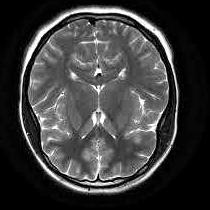Normal_Brain: (10, 1, 190, 201)
